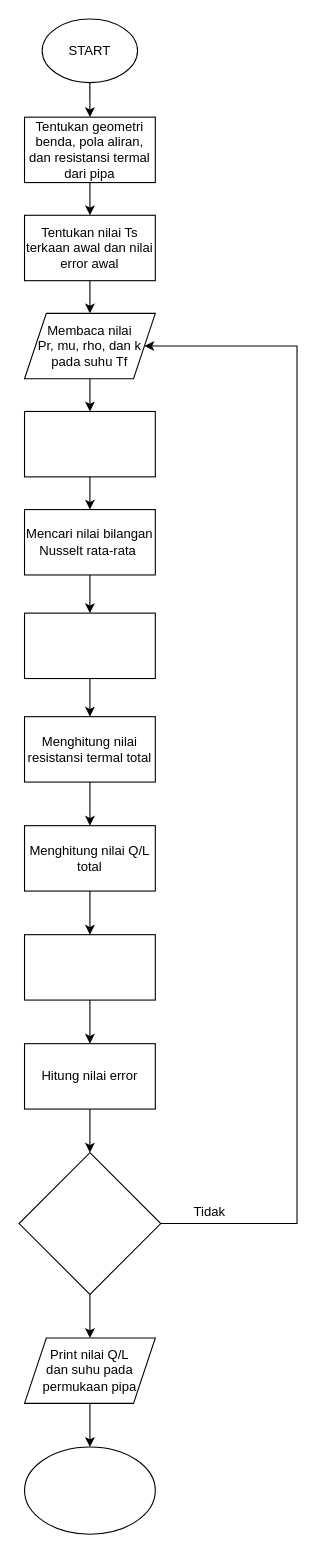
Some shapes in this 325 by 1553 pixel diagram are drawn without their labels. The centre of each missing label's shape, as x and y in pixels:
Apakah nilai error sudah di bawah 0.0001 ?: the point at 89,1223
END: the point at 89,1490
Mencari nilai bilangan Reynold: the point at 89,443
Mencari nilai koefisien konveksi rata-rata: the point at 89,645
Menghitung nilai Ts pada Q/L baru: the point at 89,967
